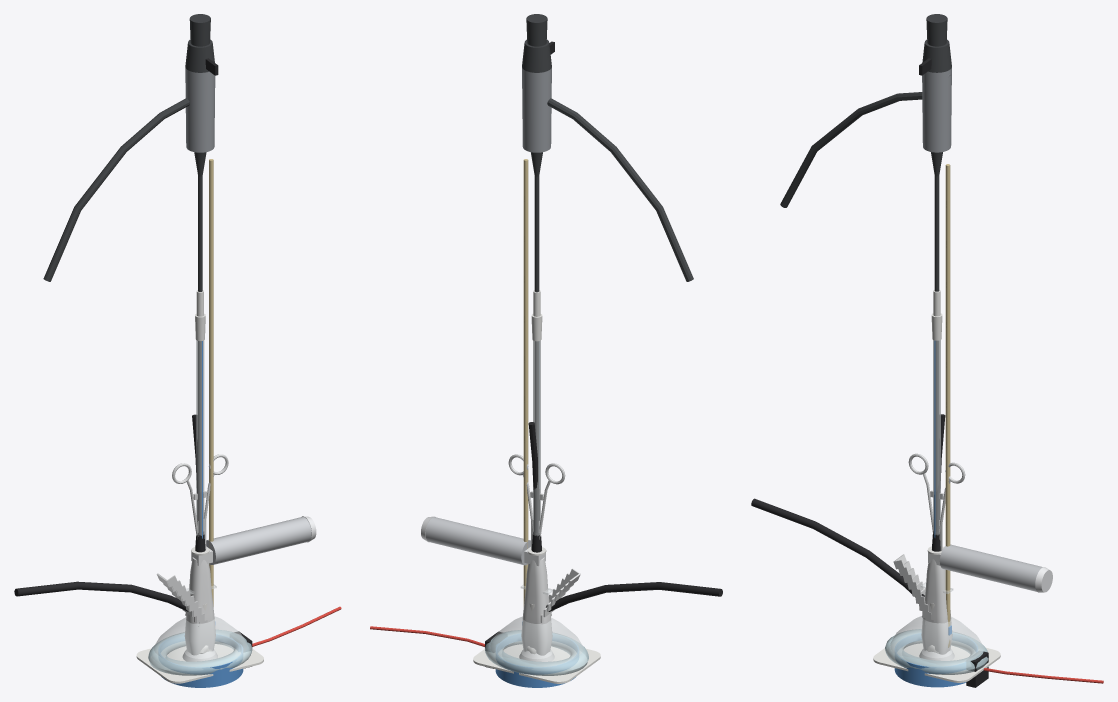
The model's file is instruments.glb.
3 views of the same model, side by side, from view 1: azimuth 30°, elevation 25°; view 2: azimuth 150°, elevation 25°; view 3: azimuth 330°, elevation 25° (orthographic).
Parts seen in each view (by area): view 1: bronchoscope, faceMask, laryngoscope, usProbe, chestDrain, defibPadRight, bougie, tourniquet, stethoscope, forcepsGauze; view 2: bronchoscope, faceMask, laryngoscope, usProbe, bougie, defibPadRight, stethoscope, chestDrain, tourniquet, forcepsGauze; view 3: bronchoscope, faceMask, laryngoscope, usProbe, bougie, defibPadRight, tourniquet, chestDrain, stethoscope, forcepsGauze.
Boxes of the visible parts, <box> form: bronchoscope: <box>43,14,218,491</box>; faceMask: <box>148,603,252,675</box>; laryngoscope: <box>156,516,316,628</box>; usProbe: <box>184,414,215,655</box>; chestDrain: <box>195,290,205,538</box>; defibPadRight: <box>136,606,341,683</box>; bougie: <box>209,159,213,606</box>; tourniquet: <box>159,631,252,687</box>; stethoscope: <box>14,581,217,661</box>; forcepsGauze: <box>172,454,228,653</box>; bronchoscope: <box>522,14,693,480</box>; faceMask: <box>485,604,588,675</box>; laryngoscope: <box>421,516,580,622</box>; usProbe: <box>521,422,552,655</box>; bougie: <box>523,159,528,606</box>; defibPadRight: <box>370,626,600,683</box>; stethoscope: <box>519,582,722,661</box>; chestDrain: <box>531,290,542,535</box>; tourniquet: <box>485,631,578,687</box>; forcepsGauze: <box>508,454,565,653</box>; bronchoscope: <box>780,14,951,491</box>; faceMask: <box>885,603,988,674</box>; laryngoscope: <box>893,544,1052,624</box>; usProbe: <box>921,414,952,654</box>; bougie: <box>945,164,950,647</box>; defibPadRight: <box>873,641,1103,683</box>; tourniquet: <box>894,633,988,687</box>; chestDrain: <box>931,289,942,537</box>; stethoscope: <box>751,498,954,660</box>; forcepsGauze: <box>908,453,965,653</box>.
Bounding box in the file's own units: 0.4411 × 0.816 × 0.097.
